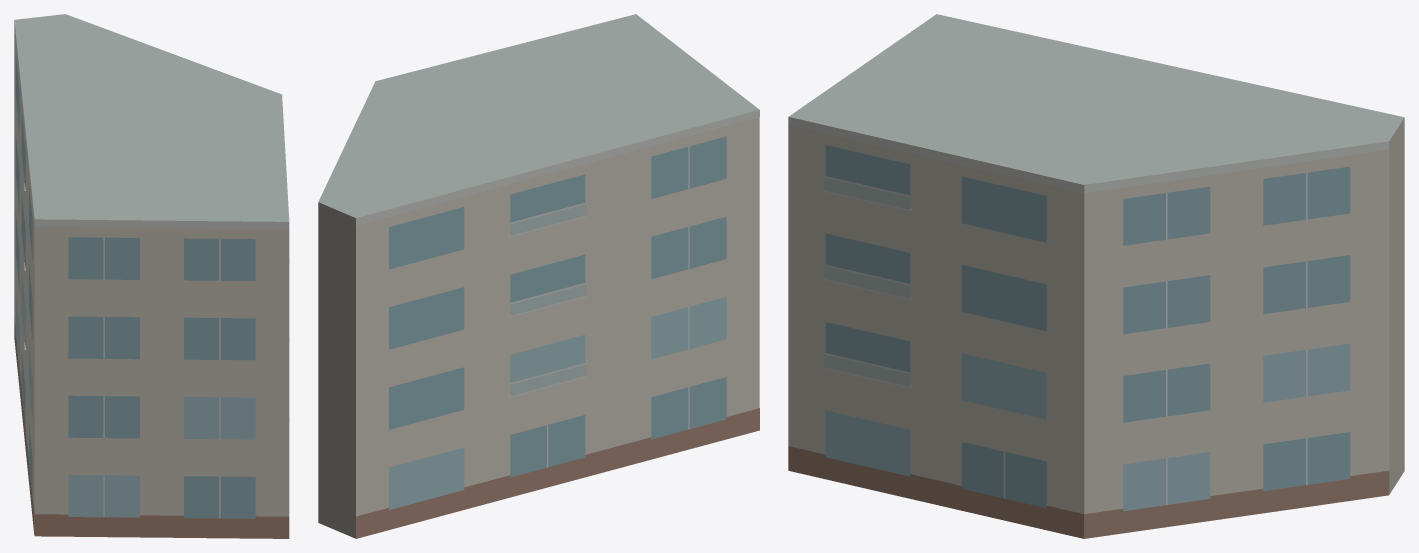
The model's file is survey-upis-32899379.glb.
3 renders of one model, left to right at view 1: azimuth 30°, elevation 25°; view 2: azimuth 150°, elevation 25°; view 3: azimuth 270°, elevation 25°, orthographic. The views are drawn at different scales.
Parts seen in each view (by area): view 1: survey-upis-32899379.tmp; view 2: survey-upis-32899379.tmp; view 3: survey-upis-32899379.tmp.
Part boxes in pixels (x1=…): survey-upis-32899379.tmp: x1=14, y1=14, x2=289, y2=538; survey-upis-32899379.tmp: x1=318, y1=14, x2=759, y2=538; survey-upis-32899379.tmp: x1=788, y1=14, x2=1404, y2=538.
Size of the model in its own units: 10.89 by 10.5 by 16.58.
